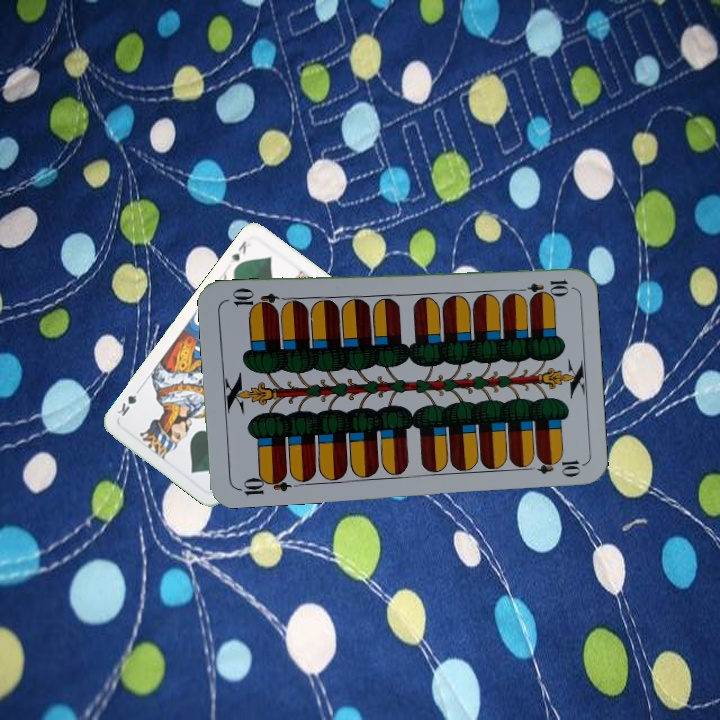E10: (233, 470, 293, 498), (512, 276, 571, 297)
GK: (226, 235, 255, 266)
